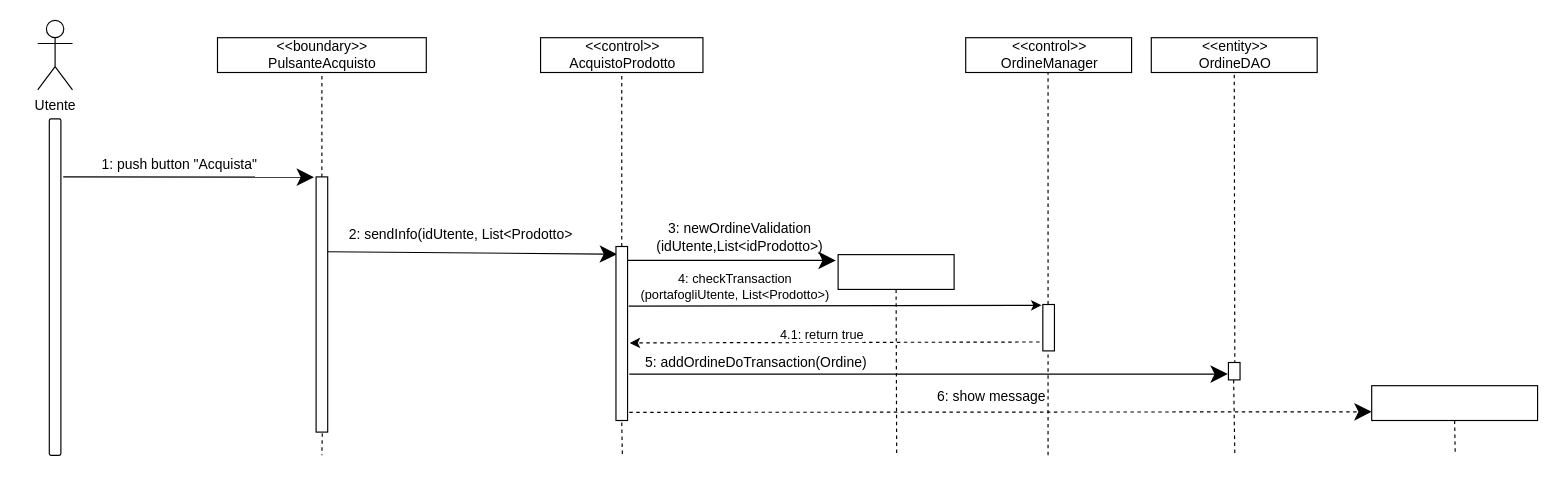
This 1558x477 diagram has some shape labels left out. Each missing label, with the box of its shape:
<<boundary>> NotificaAcquisto: (1371, 385, 1538, 420)
<<entity>> Ordine: (837, 253, 954, 289)
